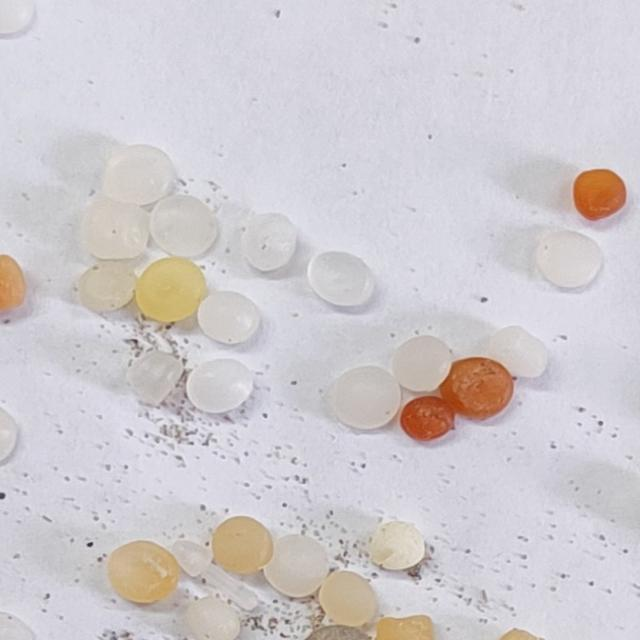beads: (137, 180, 229, 271), (98, 529, 188, 617), (434, 345, 523, 430), (527, 218, 612, 301), (298, 237, 384, 319), (256, 525, 339, 609), (128, 250, 212, 330), (327, 359, 406, 437), (310, 562, 387, 640), (482, 317, 559, 390), (76, 195, 154, 267), (117, 338, 191, 412), (103, 143, 175, 207), (183, 358, 256, 418), (392, 334, 453, 395), (212, 517, 275, 576), (241, 213, 298, 272), (197, 292, 259, 345), (574, 167, 629, 222), (369, 522, 426, 572), (78, 263, 136, 312), (400, 396, 456, 443), (186, 598, 240, 640)
